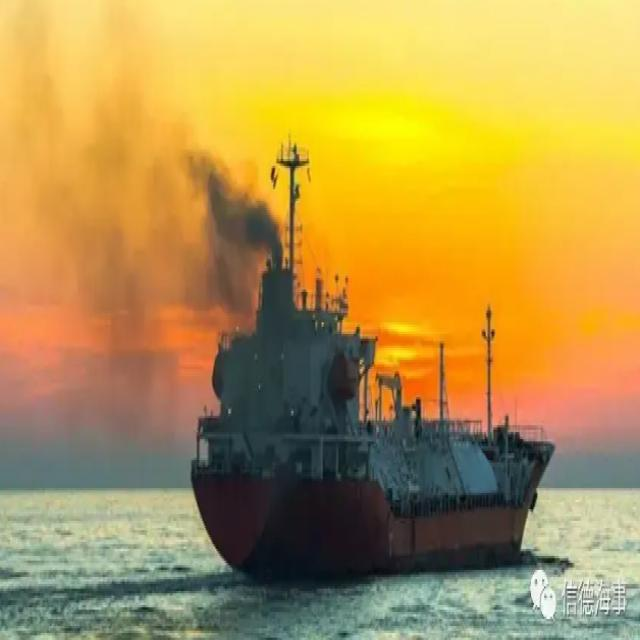cargoship: (185, 127, 549, 574)
